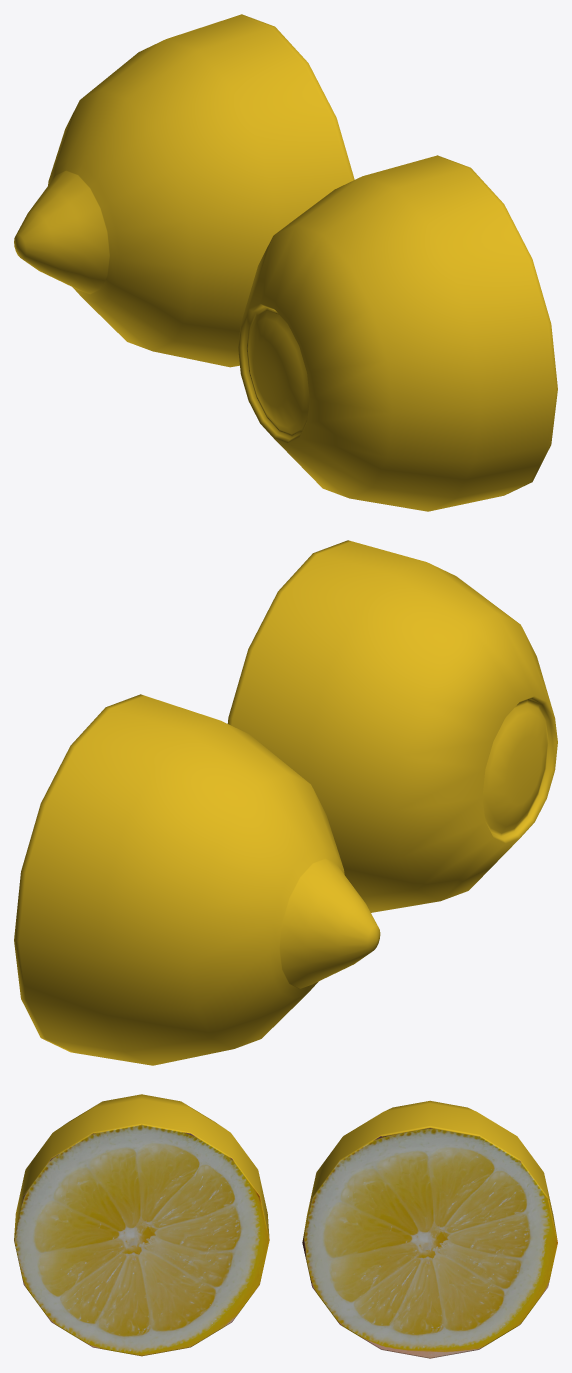
File: limon.glb
3 renders of one model, top to bottom at view 1: azimuth 30°, elevation 25°; view 2: azimuth 150°, elevation 25°; view 3: azimuth 270°, elevation 25°, orthographic. The views are drawn at different scales.
Visible parts, largest first — view 1: Sphere.001, Sphere.002; view 2: Sphere.002, Sphere.001; view 3: Sphere.001, Sphere.002.
Boxes of the visible parts, x1=… form: Sphere.001: x1=238, y1=155, x2=557, y2=511; Sphere.002: x1=14, y1=14, x2=354, y2=367; Sphere.002: x1=14, y1=694, x2=380, y2=1065; Sphere.001: x1=227, y1=540, x2=557, y2=912; Sphere.001: x1=14, y1=1094, x2=269, y2=1356; Sphere.002: x1=302, y1=1100, x2=557, y2=1358.
Bounding box in the file's own units: 1.71 × 2.02 × 4.26.
2 materials, 1 textured.
